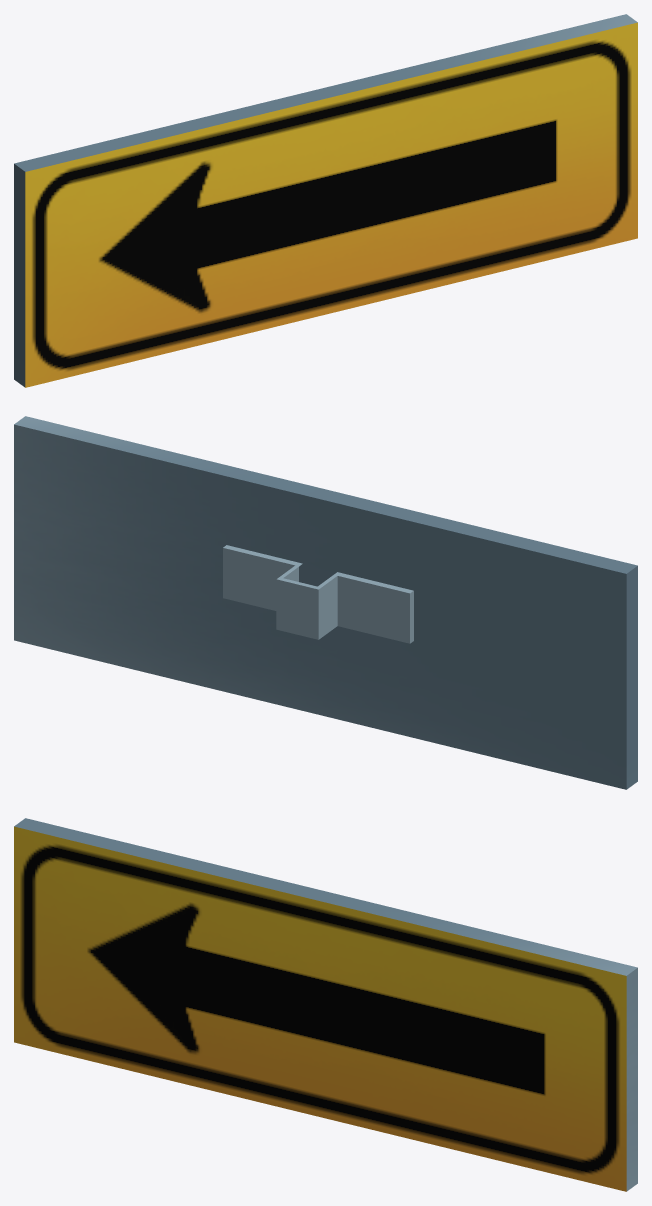
Rendered from Sign48.fbx.
The picture shows the model from 3 angles, top to bottom: view 1: azimuth 30°, elevation 25°; view 2: azimuth 150°, elevation 25°; view 3: azimuth 330°, elevation 25°; orthographic projection.
Visible parts, largest first — view 1: Sign48; view 2: Sign48; view 3: Sign48.
Boxes of the visible parts, x1=… form: Sign48: x1=14, y1=14, x2=637, y2=387; Sign48: x1=14, y1=416, x2=637, y2=789; Sign48: x1=14, y1=818, x2=637, y2=1191.
Bounding box in the file's own units: 1.54 × 0.1489 × 0.5195.
